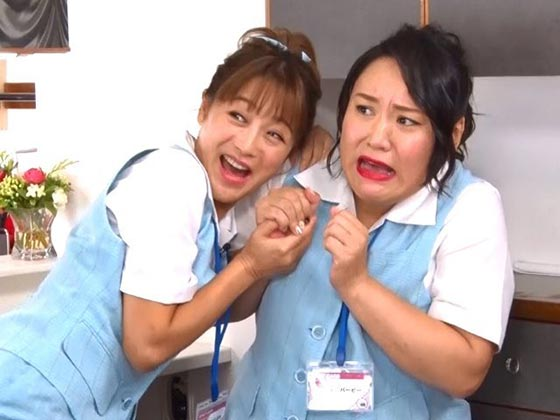face: (340, 55, 465, 198), (197, 71, 310, 204)
hand: (242, 183, 323, 277), (322, 211, 368, 273)
